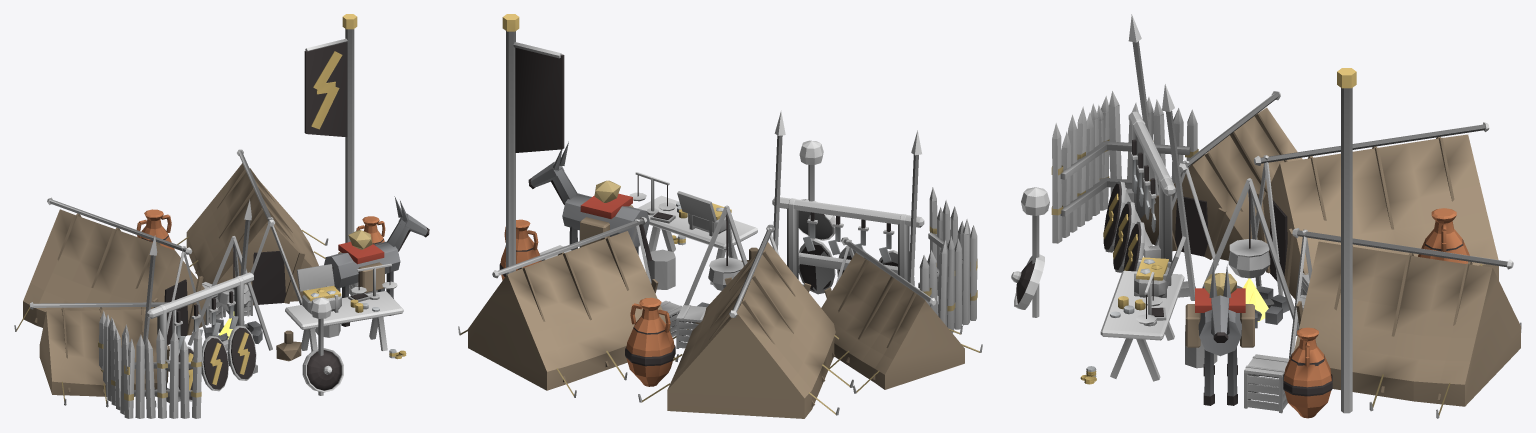
The model's file is misthophoros-camp-l1.glb.
3 renders of one model, left to right at view 1: azimuth 30°, elevation 25°; view 2: azimuth 150°, elevation 25°; view 3: azimuth 270°, elevation 25°, orthographic. The views are drawn at different scales.
Visible parts, largest first — view 1: misthophoros-camp-l1; view 2: misthophoros-camp-l1; view 3: misthophoros-camp-l1.
Boxes of the visible parts, left/top/right/bottom form: misthophoros-camp-l1: left=14, top=14, right=429, bottom=418; misthophoros-camp-l1: left=458, top=14, right=982, bottom=418; misthophoros-camp-l1: left=1011, top=14, right=1521, bottom=418.
Bounding box in the file's own units: 1.61 × 1.05 × 1.42.
